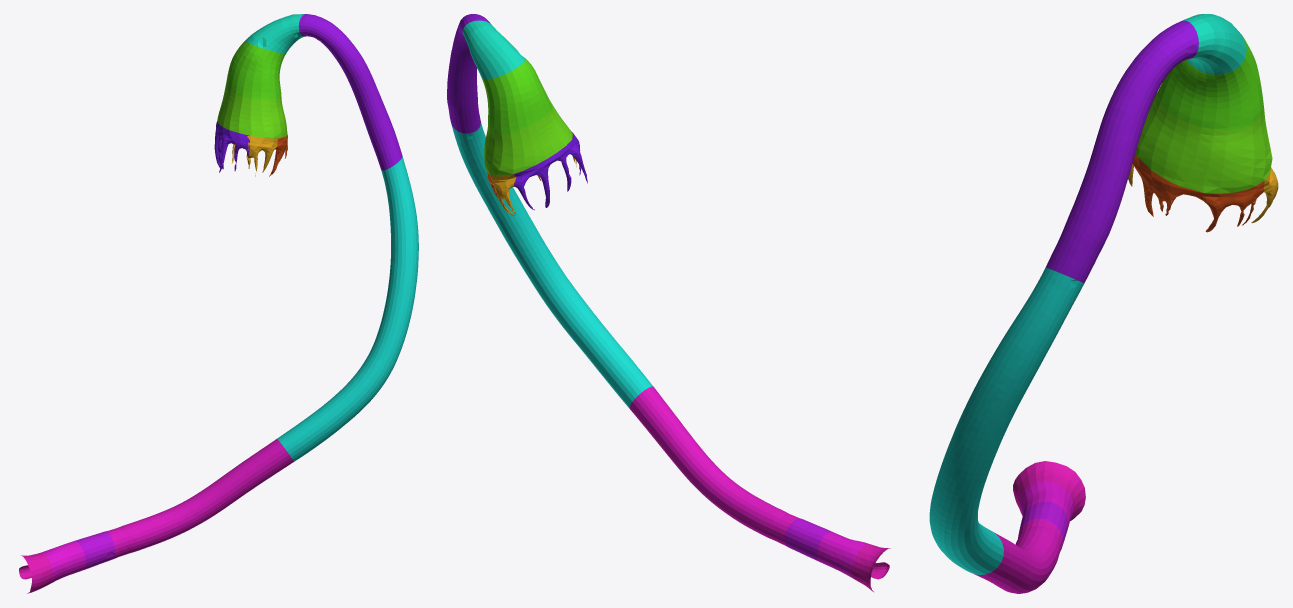
Rendered from fallopian-tube-female-left-upenn-v1.0.glb.
3 views of the same model, side by side, from view 1: azimuth 30°, elevation 25°; view 2: azimuth 150°, elevation 25°; view 3: azimuth 270°, elevation 25° (orthographic). The views are drawn at different scales.
Visible parts, largest first — view 1: world; view 2: world; view 3: world.
Part boxes in pixels (x1,y1,x2,y2): world: (19, 14, 418, 593); world: (447, 14, 890, 591); world: (929, 14, 1278, 593).
Bounding box in the file's own units: 0.0384 × 0.0442 × 0.0185.
